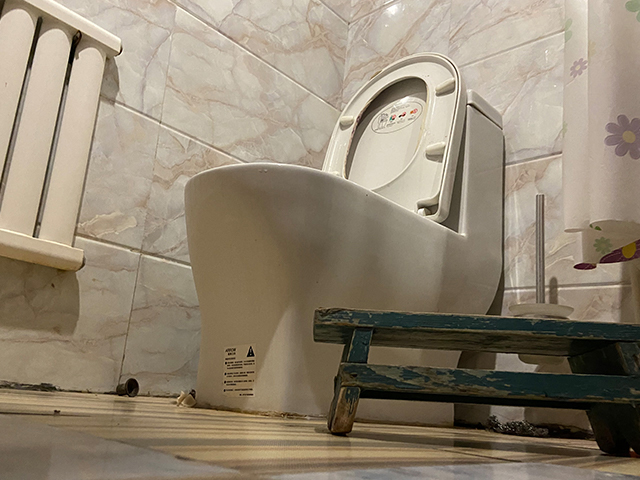closestool: (182, 50, 507, 429)
stool: (311, 306, 640, 460)
